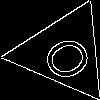O: (38, 27, 100, 85)
